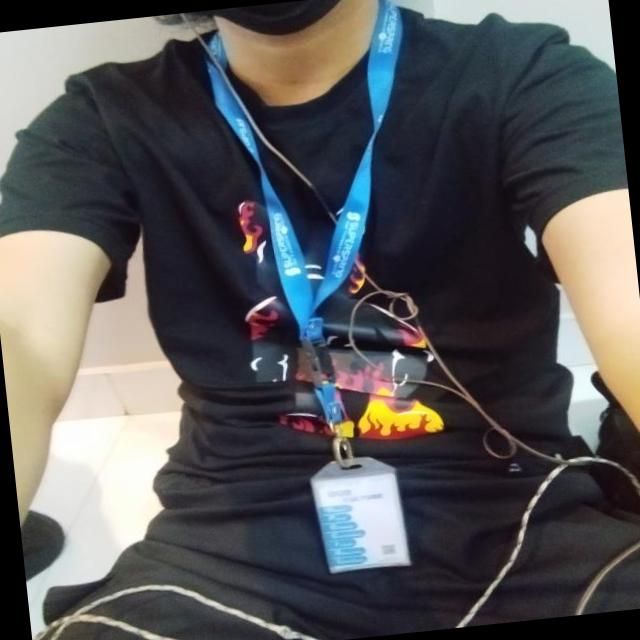id_card: (207, 0, 462, 585)
